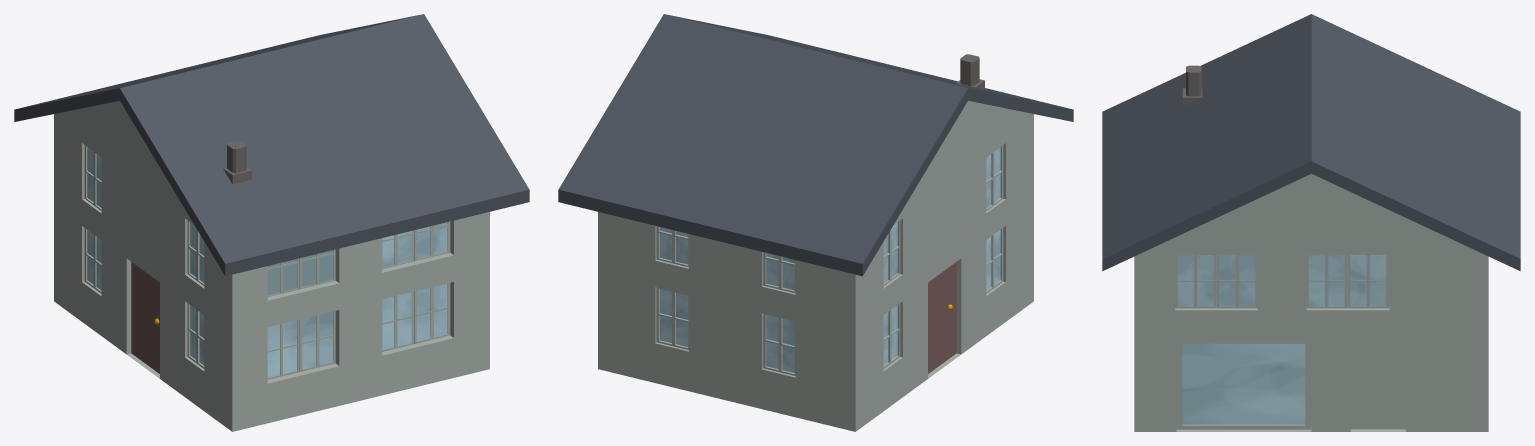
File: TPCS_House_008_V1.fbx
3 renders of one model, left to right at view 1: azimuth 30°, elevation 25°; view 2: azimuth 150°, elevation 25°; view 3: azimuth 270°, elevation 25°, orthographic.
Visible parts, largest first — view 1: Cube.252; view 2: Cube.252; view 3: Cube.252.
Part boxes in pixels (x1=…): Cube.252: x1=14, y1=14, x2=529, y2=431; Cube.252: x1=558, y1=14, x2=1073, y2=431; Cube.252: x1=1102, y1=14, x2=1520, y2=431.
Bounding box in the file's own units: 591 × 527 × 709.
